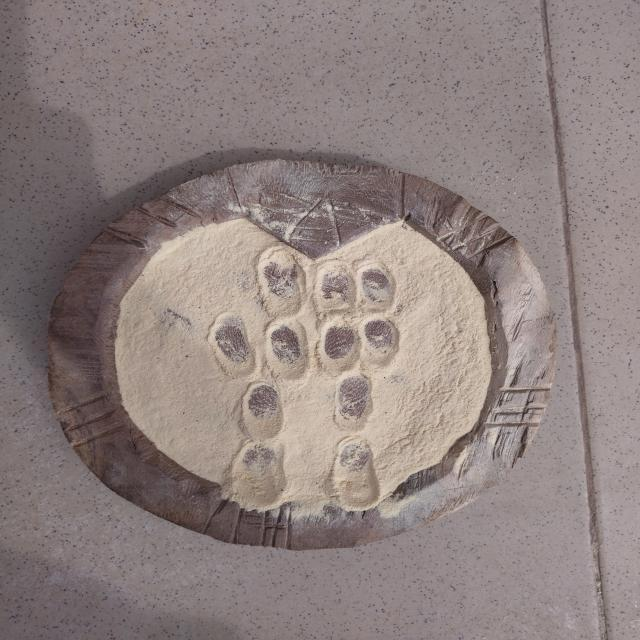double: (204, 310, 314, 388), (311, 311, 404, 378), (312, 256, 400, 318)
single: (225, 441, 289, 514), (252, 244, 308, 322), (232, 376, 292, 447), (332, 435, 381, 516), (330, 368, 378, 432)
